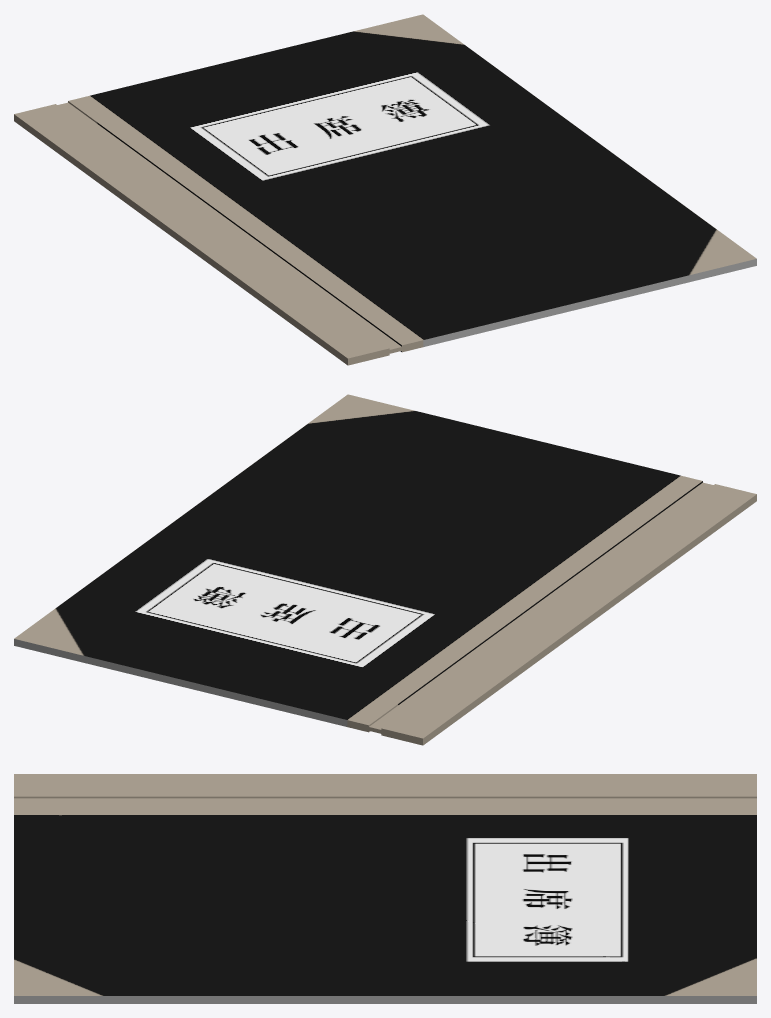
The model's file is AttendanceRecord.fbx.
3 views of the same model, one above another, from view 1: azimuth 30°, elevation 25°; view 2: azimuth 150°, elevation 25°; view 3: azimuth 270°, elevation 25° (orthographic). The views are drawn at different scales.
Visible parts, largest first — view 1: Cube.001, Cube, Cube.003; view 2: Cube.001, Cube, Cube.003; view 3: Cube.001, Cube.003.
Boxes of the visible parts, x1=… form: Cube.001: x1=14, y1=14, x2=756, y2=358; Cube: x1=14, y1=114, x2=423, y2=365; Cube.003: x1=423, y1=259, x2=756, y2=346; Cube.001: x1=14, y1=394, x2=756, y2=738; Cube: x1=347, y1=494, x2=756, y2=745; Cube.003: x1=14, y1=639, x2=347, y2=726; Cube.001: x1=14, y1=774, x2=756, y2=995; Cube.003: x1=14, y1=996, x2=756, y2=1003.
Bounding box in the file's own units: 3.53 × 0.0579 × 4.98.
